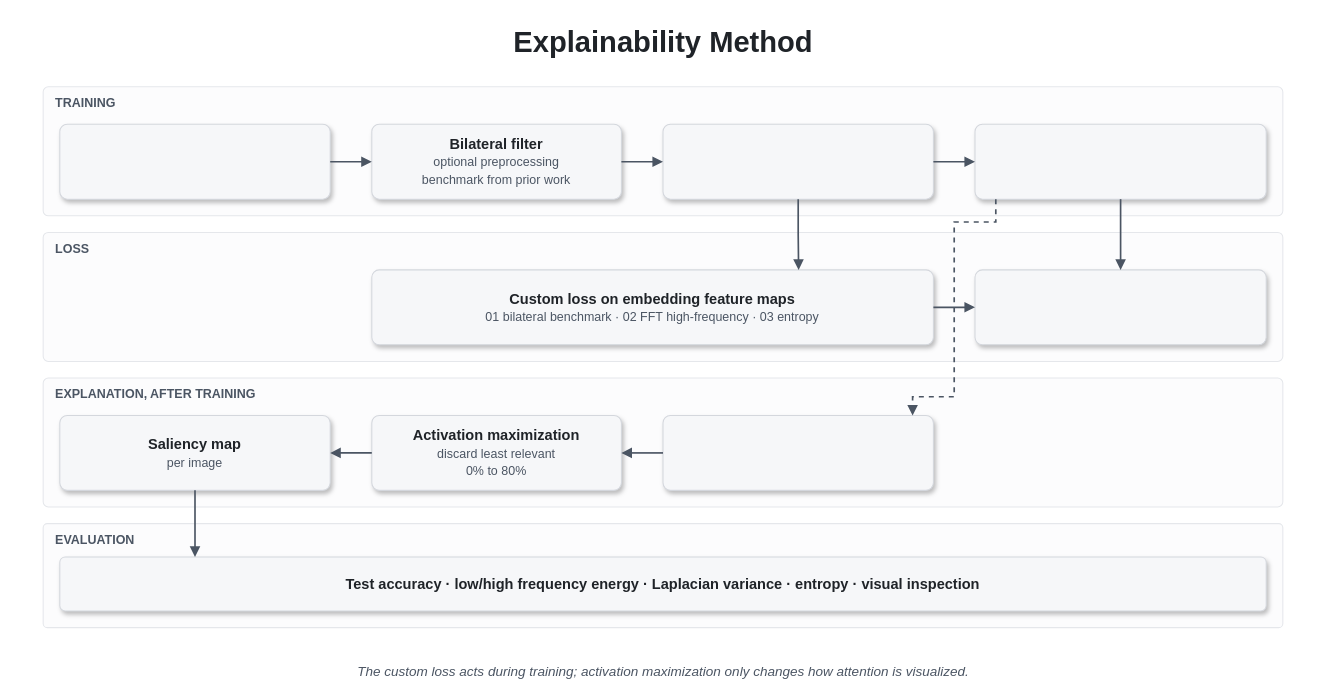
Some shapes in this 1325 by 699 pixel diagram are drawn without their labels. The shapes that lost their labels are listed below. From the top down, each one's centre as x and y in pixels, then its label:
At point 195,162: "Face image 121,344 train · 35,328 test balanced real / fake".
At point 799,162: "Patch embedding convolutional layer feature maps exposed".
At point 1121,162: "ViT-B/16 implemented from scratch real / fake classifier".
At point 1121,308: "Total loss cross-entropy + α · custom loss α from 1e-6 to 1e-2".
At point 799,454: "Attention rollout head fusion: min, mean, max".
